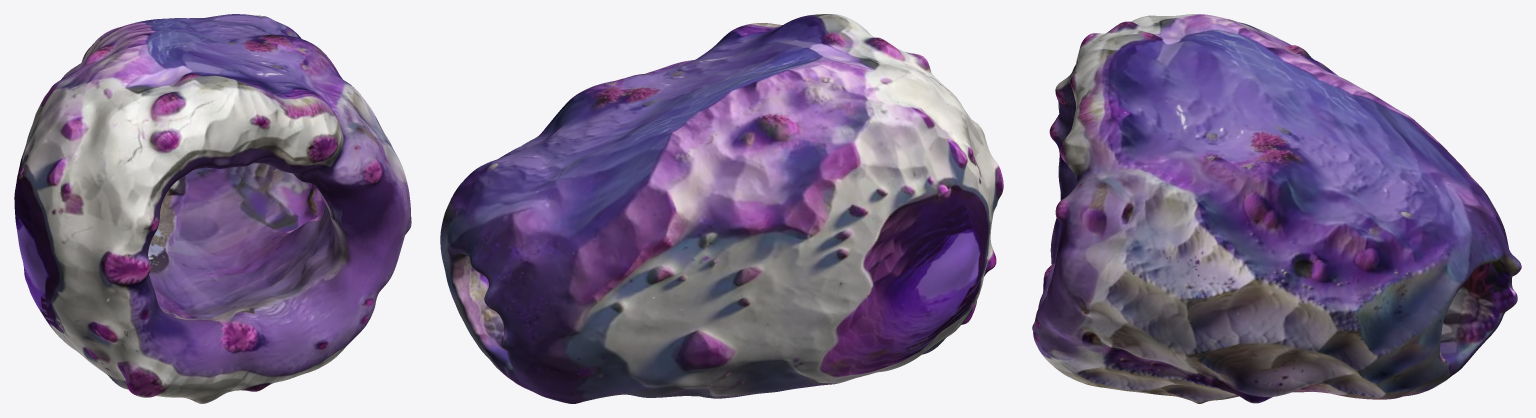
Rendered from cave_texture.glb.
The picture shows the model from 3 angles, left to right: view 1: azimuth 30°, elevation 25°; view 2: azimuth 150°, elevation 25°; view 3: azimuth 270°, elevation 25°; orthographic projection. The views are drawn at different scales.
Bounding box in the file's own units: 1.91 × 1.44 × 2.
Materials: 1 (1 with a texture image).
